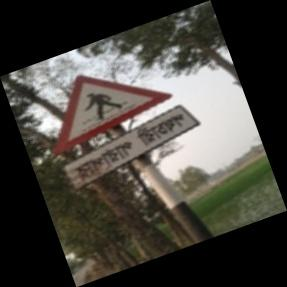Pedestrian-crossing: (52, 74, 200, 191)
